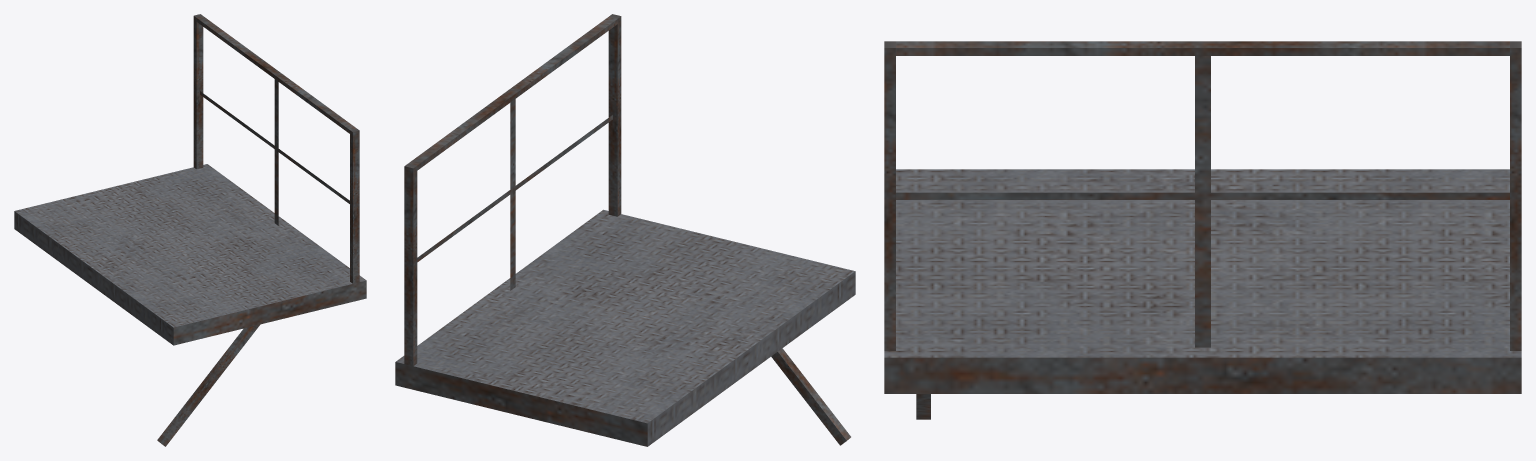
The model's file is mMetalCatwalkOneSS01.fbx.
The picture shows the model from 3 angles, left to right: view 1: azimuth 30°, elevation 25°; view 2: azimuth 150°, elevation 25°; view 3: azimuth 270°, elevation 25°; orthographic projection. The views are drawn at different scales.
Visible parts, largest first — view 1: MetalCatwalkOneSS01; view 2: MetalCatwalkOneSS01; view 3: MetalCatwalkOneSS01.
Part boxes in pixels (x1,y1,x2,y2): MetalCatwalkOneSS01: (14,14,366,446); MetalCatwalkOneSS01: (395,14,855,446); MetalCatwalkOneSS01: (884,41,1521,419).
Size of the model in its own units: 287 by 383 by 400.
